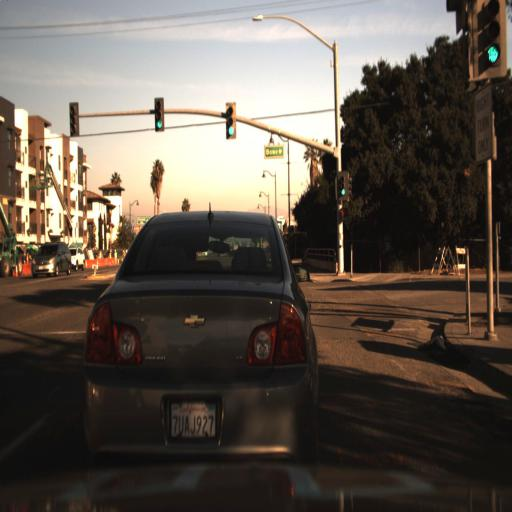car: (74, 193, 323, 499), (28, 236, 70, 278), (66, 241, 86, 276), (69, 246, 87, 274)
trafficLight: (222, 96, 236, 142), (63, 99, 78, 137), (150, 91, 164, 131)
trafficLight-Green: (468, 0, 510, 93), (337, 161, 353, 207)
